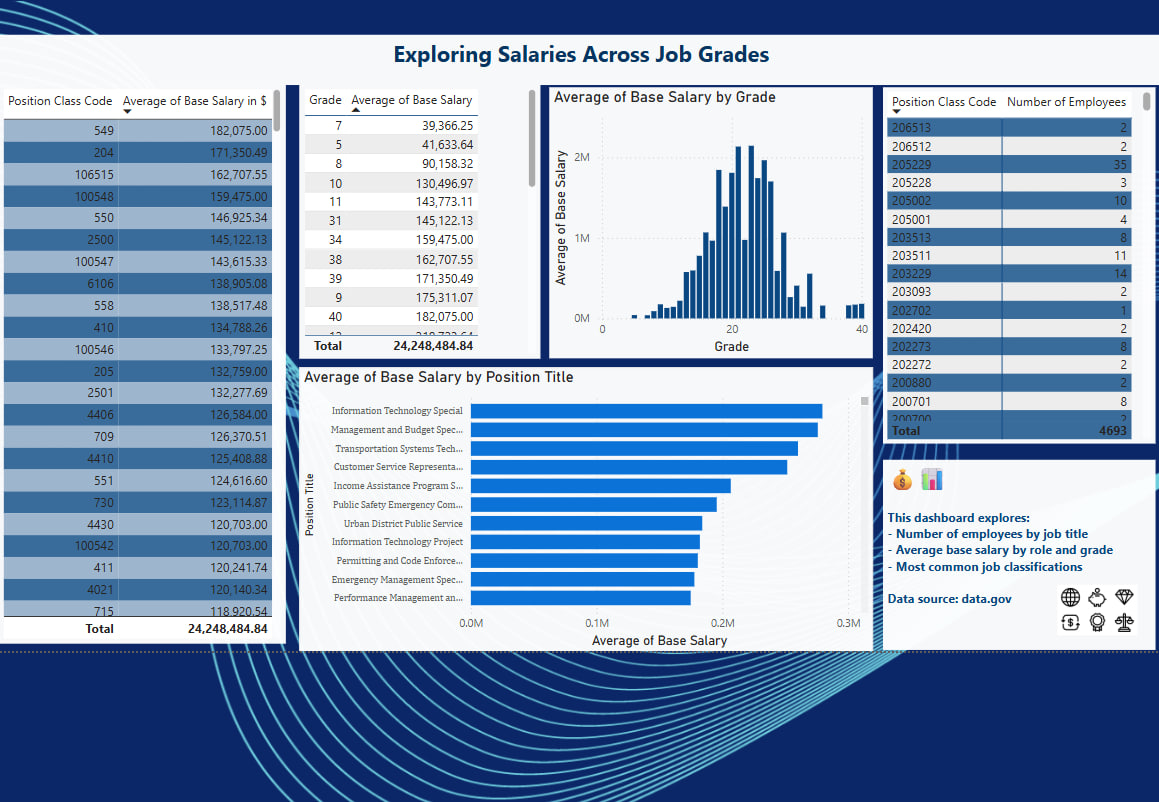

The dashboard page shown, as its layout file describes it:
{"tool":"powerbi","page":{"name":"Page 1","canvas":[1280,720],"ordinal":0},"visuals":[{"type":"tableEx","fields":{"Values":["Average_Salary_by_Job_Classification.Position Class Code","Sum(Average_Salary_by_Job_Classification.Average of Base Salary)"]},"box":[0,97.4,315.6,613.4],"z":0},{"type":"lineClusteredColumnComboChart","fields":{"Category":["Average_Salary_by_Job_Classification.Grade"],"Y":["Sum(Average_Salary_by_Job_Classification.Average of Base Salary)"]},"box":[605.1,100.2,355.4,297.8],"z":1000},{"type":"clusteredBarChart","fields":{"Category":["Average_Salary_by_Job_Classification.Position Title"],"Y":["Sum(Average_Salary_by_Job_Classification.Average of Base Salary)"]},"box":[330.7,407.5,629.8,312.9],"z":2000},{"type":"pivotTable","fields":{"Values":["Sum(Average_Salary_by_Job_Classification.Number of Employees)"],"Rows":["Average_Salary_by_Job_Classification.Position Class Code"]},"box":[971.5,100.2,299.1,391.1],"z":3000},{"type":"textbox","box":[0,42.5,1280.3,54.9],"z":4000},{"type":"tableEx","fields":{"Values":["Average_Salary_by_Job_Classification.Grade","Sum(Average_Salary_by_Job_Classification.Average of Base Salary)"]},"box":[330.7,97.4,264.8,300.5],"z":5000},{"type":"textbox","box":[971.5,509.1,299.1,208.6],"z":6000},{"type":"image","box":[1158.2,636.7,97.4,74.1],"z":7000}]}

Visuals, with their boxes in screenshot pixels (x1, y1, x2, y2):
tableEx - Average_Salary_by_Job_Classification.Position Class Code x Sum(Average_Salary_by_Job_Classification.Average of Base Salary): [0, 81, 271, 649]
lineClusteredColumnComboChart - Average_Salary_by_Job_Classification.Grade x Sum(Average_Salary_by_Job_Classification.Average of Base Salary): [539, 84, 868, 359]
clusteredBarChart - Average_Salary_by_Job_Classification.Position Title x Sum(Average_Salary_by_Job_Classification.Average of Base Salary): [285, 368, 868, 658]
pivotTable - Sum(Average_Salary_by_Job_Classification.Number of Employees) x Average_Salary_by_Job_Classification.Position Class Code: [878, 84, 1155, 446]
textbox: [0, 30, 1158, 81]
tableEx - Average_Salary_by_Job_Classification.Grade x Sum(Average_Salary_by_Job_Classification.Average of Base Salary): [285, 81, 530, 359]
textbox: [878, 462, 1155, 655]
image: [1051, 580, 1141, 649]
